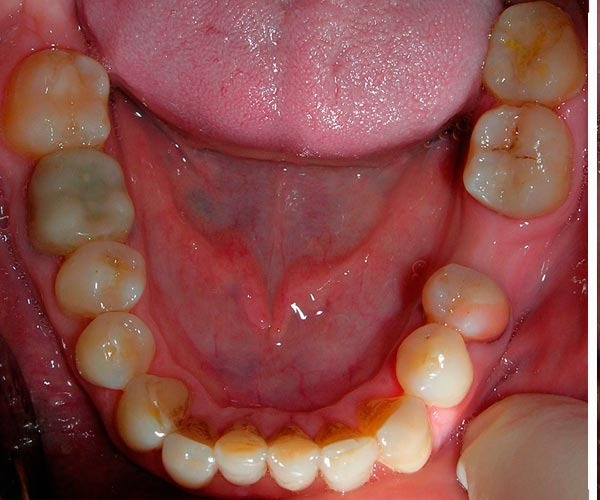LL1BC_healthy: (395, 327, 473, 405)
LL2BC_decay: (427, 263, 512, 342)
LL2M_decay: (472, 104, 572, 203)
LL3M_decay: (491, 4, 578, 99)
LLCI_decay: (269, 422, 321, 492)
LLC_decay: (369, 394, 431, 471)
LLLI_decay: (315, 415, 379, 486)
LR1BC_decay: (80, 319, 157, 378)
LR1M_decay: (33, 151, 135, 243)
LR2BC_decay: (55, 247, 148, 312)
LR2M_healthy: (16, 50, 111, 146)
LRCI_decay: (218, 419, 269, 482)
LRC_decay: (121, 375, 188, 439)
LRLI_decay: (165, 421, 217, 485)
